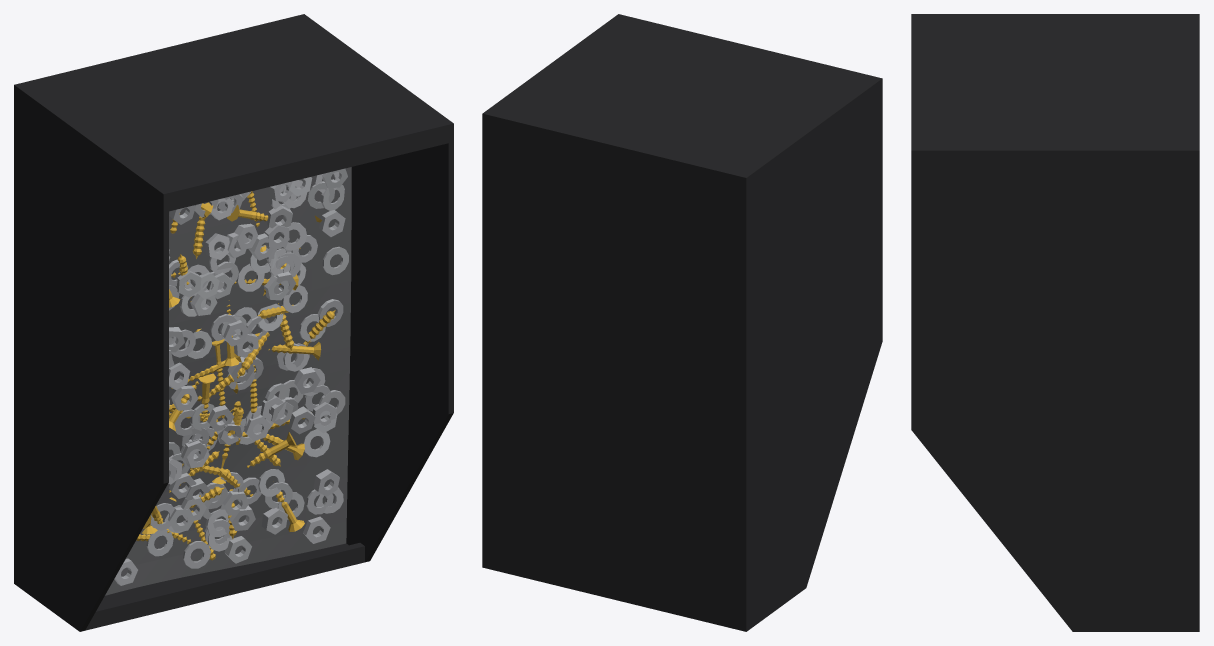
File: bin_ferragens_mistas.obj
3 views of the same model, side by side, from view 1: azimuth 30°, elevation 25°; view 2: azimuth 150°, elevation 25°; view 3: azimuth 270°, elevation 25° (orthographic). The views are drawn at different scales.
Visible parts, largest first — view 1: bin_ferragens_mistas_plastico_bin, bin_ferragens_mistas_zinco, bin_ferragens_mistas_massa_monte_ferragens_mistas, bin_ferragens_mistas_zinco_amarelo; view 2: bin_ferragens_mistas_plastico_bin; view 3: bin_ferragens_mistas_plastico_bin.
Part boxes in pixels (box(x1,y1,x2,y2)): bin_ferragens_mistas_plastico_bin: box(14, 14, 453, 631); bin_ferragens_mistas_zinco: box(114, 168, 348, 585); bin_ferragens_mistas_massa_monte_ferragens_mistas: box(105, 167, 351, 595); bin_ferragens_mistas_zinco_amarelo: box(136, 191, 335, 560); bin_ferragens_mistas_plastico_bin: box(482, 14, 882, 631); bin_ferragens_mistas_plastico_bin: box(911, 14, 1199, 631).
Bounding box in the file's own units: 140 × 230 × 125.
